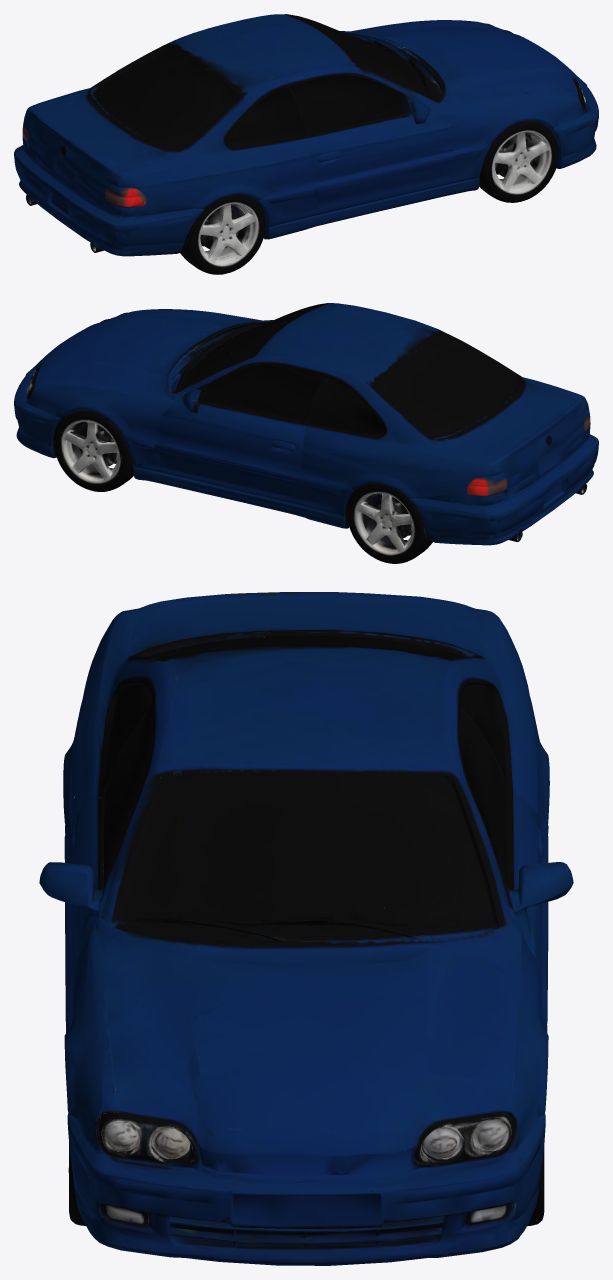
The model's file is bavorak.glb.
3 views of the same model, one above another, from view 1: azimuth 30°, elevation 25°; view 2: azimuth 150°, elevation 25°; view 3: azimuth 270°, elevation 25° (orthographic). The views are drawn at different scales.
Parts seen in each view (by area): view 1: Body, Wheel_RR, Wheel_FR; view 2: Body, Wheel_RL, Wheel_FL; view 3: Body, Wheel_FL, Wheel_FR.
Boxes of the visible parts, x1=… form: Body: x1=14, y1=14, x2=598, y2=256; Wheel_RR: x1=180, y1=183, x2=271, y2=274; Wheel_FR: x1=479, y1=111, x2=563, y2=202; Body: x1=14, y1=303, x2=598, y2=545; Wheel_RL: x1=341, y1=473, x2=432, y2=563; Wheel_FL: x1=49, y1=401, x2=133, y2=491; Body: x1=39, y1=592, x2=573, y2=1265; Wheel_FL: x1=480, y1=1033, x2=548, y2=1226; Wheel_FR: x1=64, y1=1032, x2=130, y2=1225.
Size of the model in its own units: 0.9999 by 0.3052 by 0.4501.
1 material, 1 textured.
